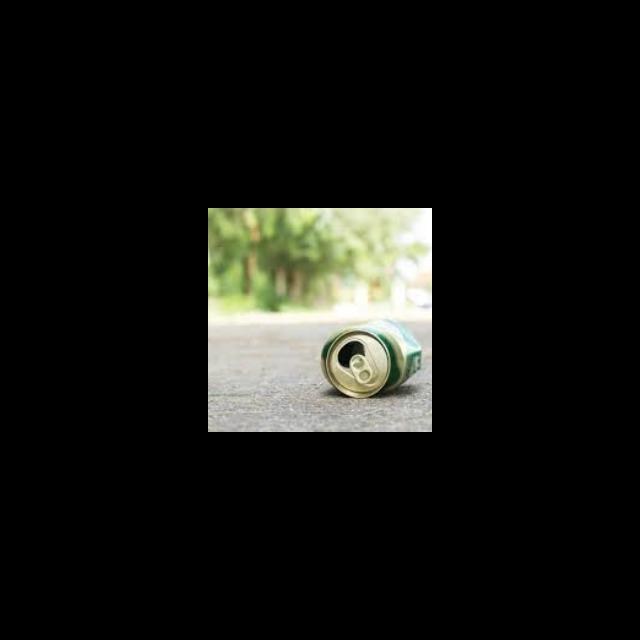metal: (320, 317, 425, 402)
